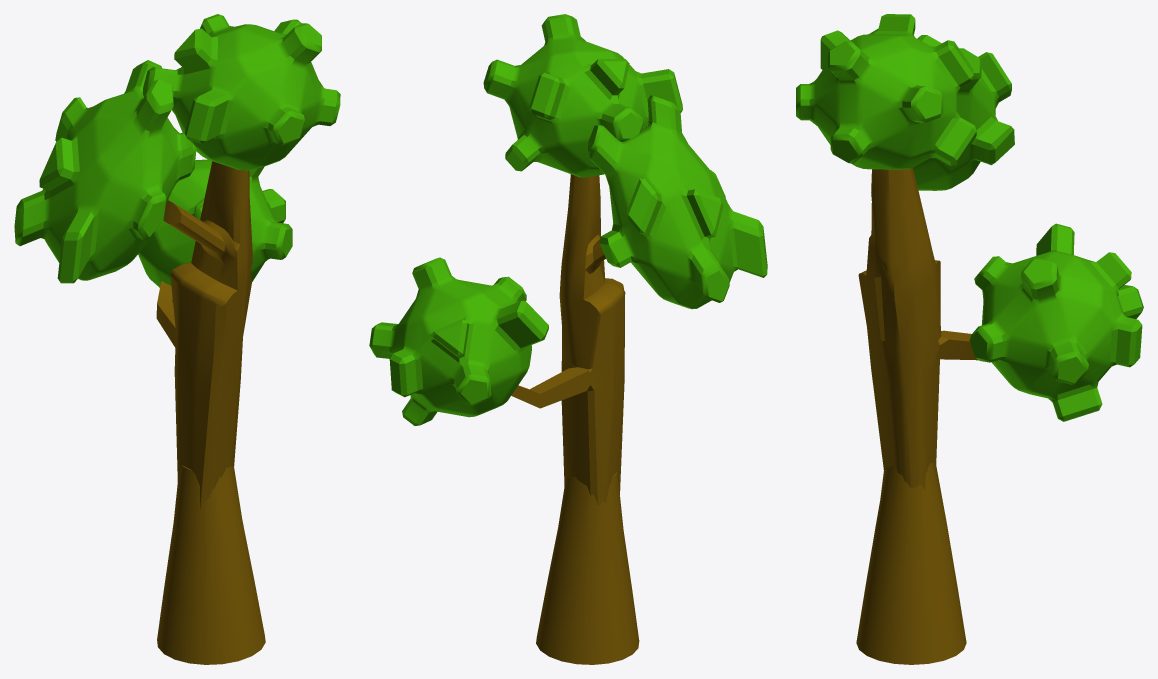
The model's file is Wood3.fbx.
The picture shows the model from 3 angles, left to right: view 1: azimuth 30°, elevation 25°; view 2: azimuth 150°, elevation 25°; view 3: azimuth 270°, elevation 25°; orthographic projection. The views are drawn at different scales.
Parts seen in each view (by area): view 1: pasted__pPlatonic2, polySurface2, pasted__pPlatonic1, pCylinder1, pPlatonic1; view 2: pasted__pPlatonic2, pPlatonic1, polySurface2, pasted__pPlatonic1, pCylinder1; view 3: pPlatonic1, polySurface2, pasted__pPlatonic1, pCylinder1, pasted__pPlatonic2.
Part boxes in pixels (<box>): pasted__pPlatonic2: <box>14,60,196,283</box>; polySurface2: <box>156,161,252,510</box>; pasted__pPlatonic1: <box>143,14,340,170</box>; pCylinder1: <box>157,465,265,664</box>; pPlatonic1: <box>138,159,292,287</box>; pasted__pPlatonic2: <box>588,95,767,309</box>; pPlatonic1: <box>369,257,548,425</box>; polySurface2: <box>511,174,625,505</box>; pasted__pPlatonic1: <box>483,14,682,177</box>; pCylinder1: <box>536,472,639,664</box>; pPlatonic1: <box>969,223,1143,421</box>; polySurface2: <box>858,167,978,489</box>; pasted__pPlatonic1: <box>796,14,976,169</box>; pCylinder1: <box>856,460,966,664</box>; pasted__pPlatonic2: <box>869,28,1014,190</box>.
Size of the model in its own units: 8.23 by 15.43 by 7.71.
